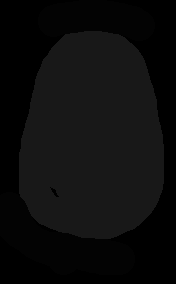fp: (16, 26, 167, 238)
